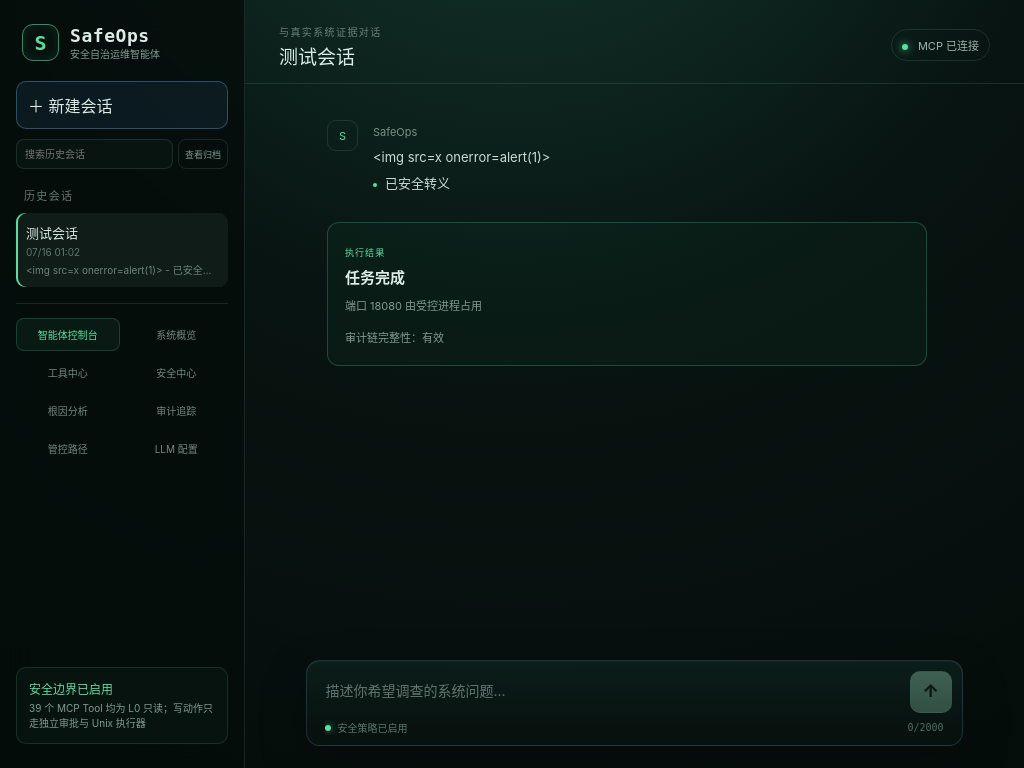
Scenario: SafeOps Chinese operational UI › saves LLM provider settings without rendering the API key
Expected: the heading "测试会话" is shown, [279, 46, 355, 69]
Click the button "LLM 配置". click: coordinates (176, 448)
box: [124, 432, 228, 465]
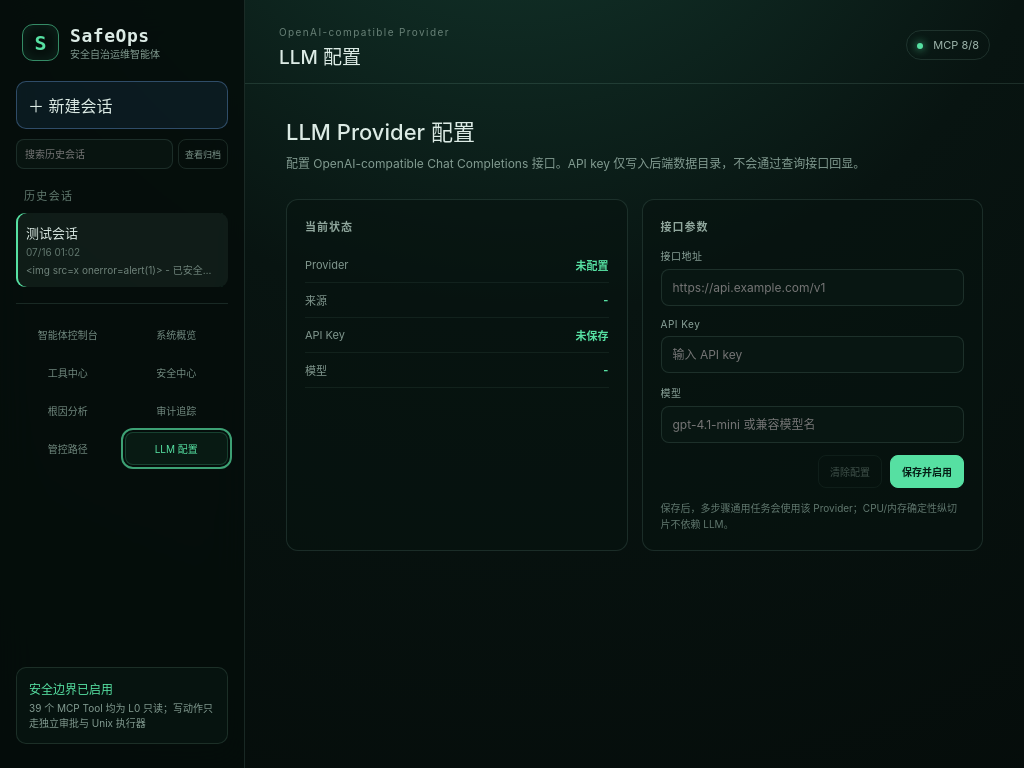
Expected: the heading "LLM Provider 配置" is shown, [286, 119, 475, 145]
Type "https://llm.example/v1" into the field labelled "接口地址". click: coordinates (812, 287)
box: [660, 269, 964, 306]
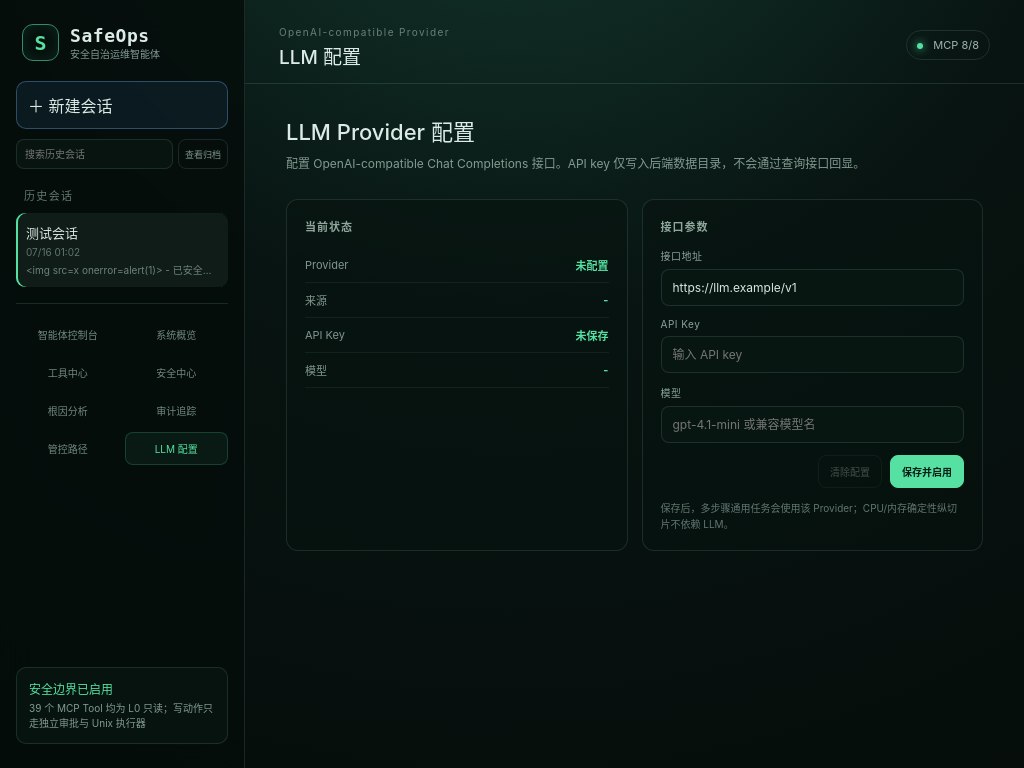
Type "secret-key" into the password field labelled "API Key". click: coordinates (812, 354)
box: [660, 336, 964, 373]
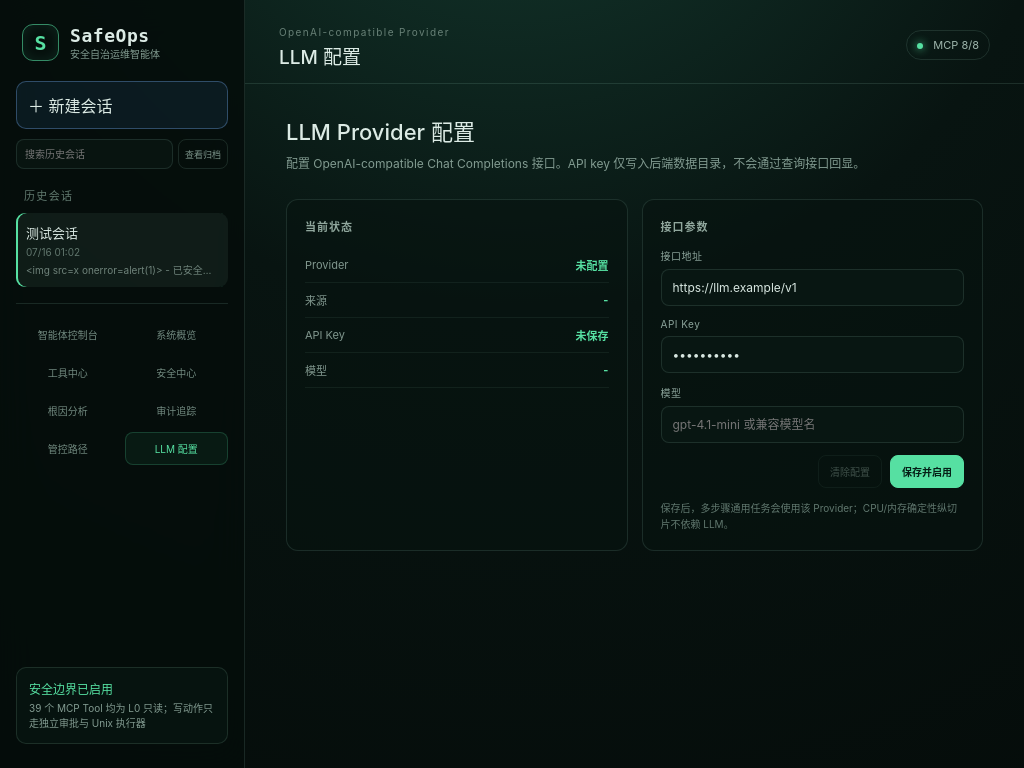
Type "ops-model" into the field labelled "模型". click: coordinates (812, 424)
box: [660, 406, 964, 443]
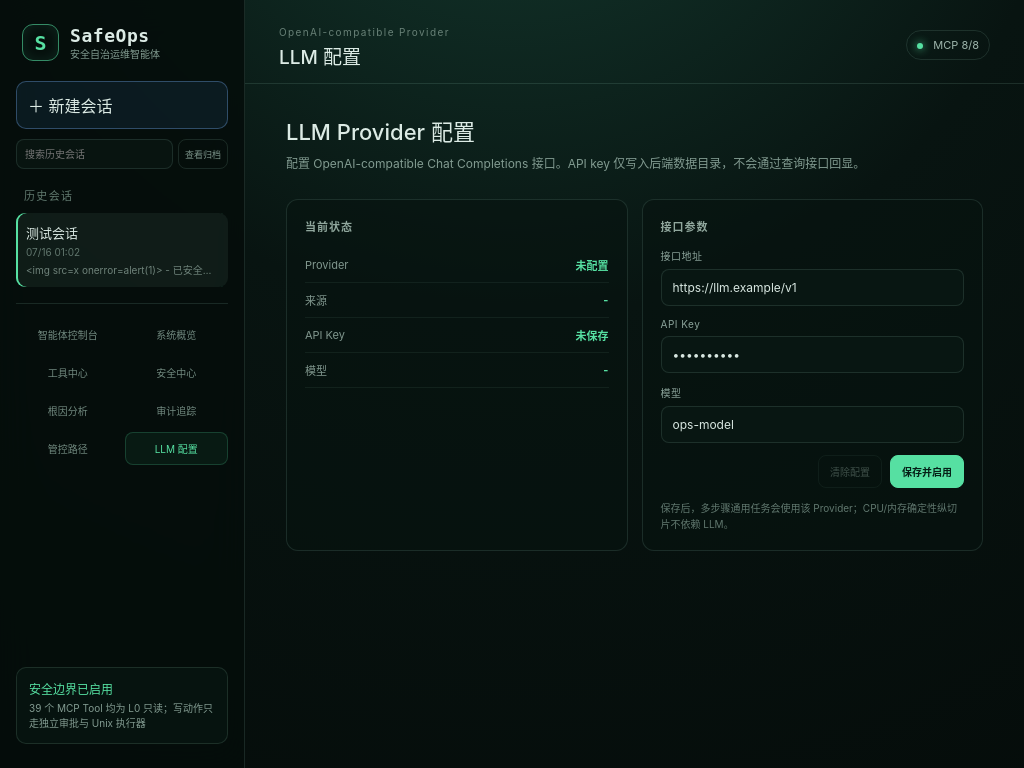
Click the button "保存并启用". click: coordinates (927, 471)
box: [890, 455, 964, 488]
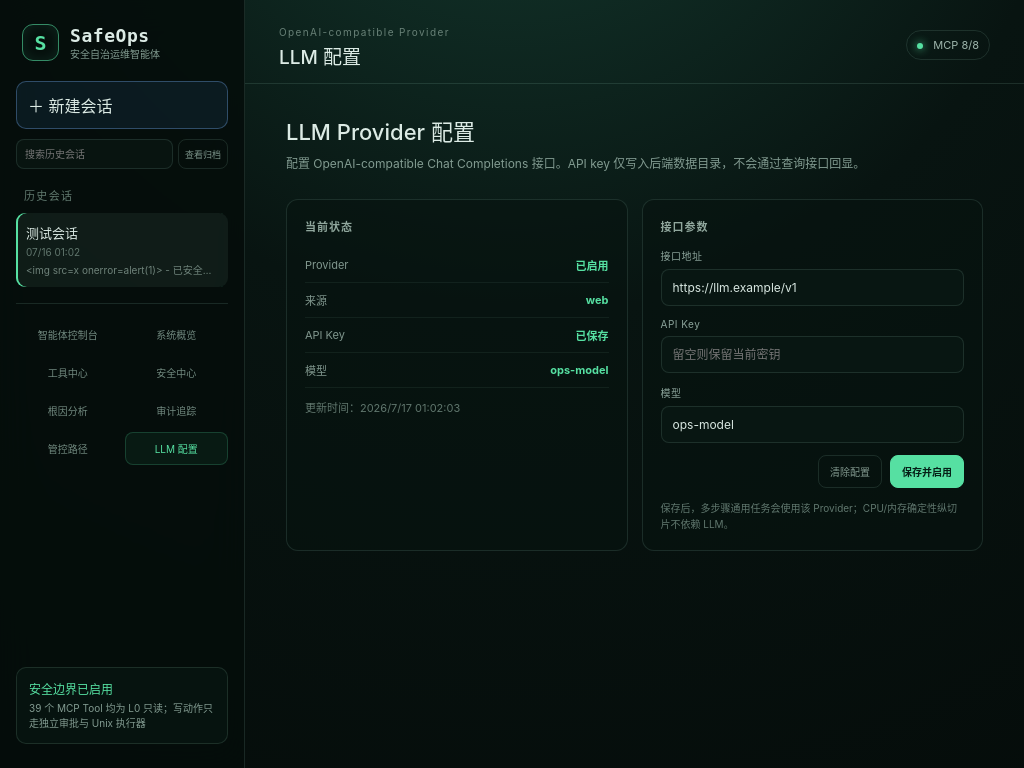
Expected: the text "已启用" is shown, [576, 257, 608, 273]
Expected: the text "ops-model" is shown, [550, 363, 609, 377]
